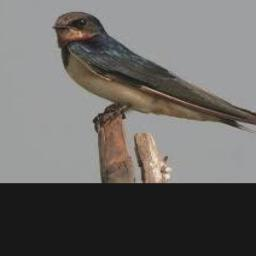Swallow: (53, 13, 256, 131)
